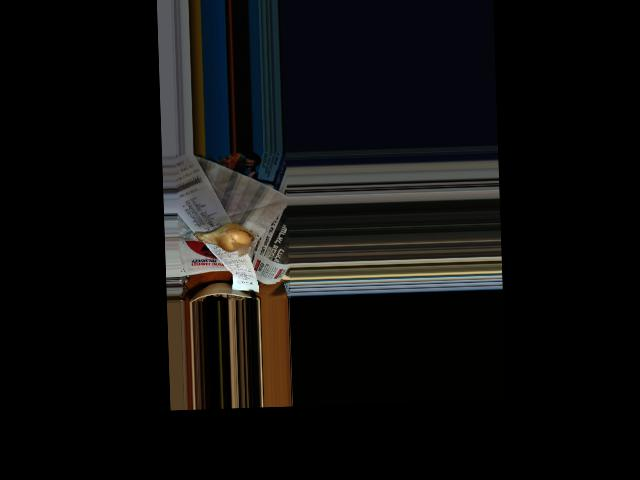onion: (198, 216, 253, 254)
